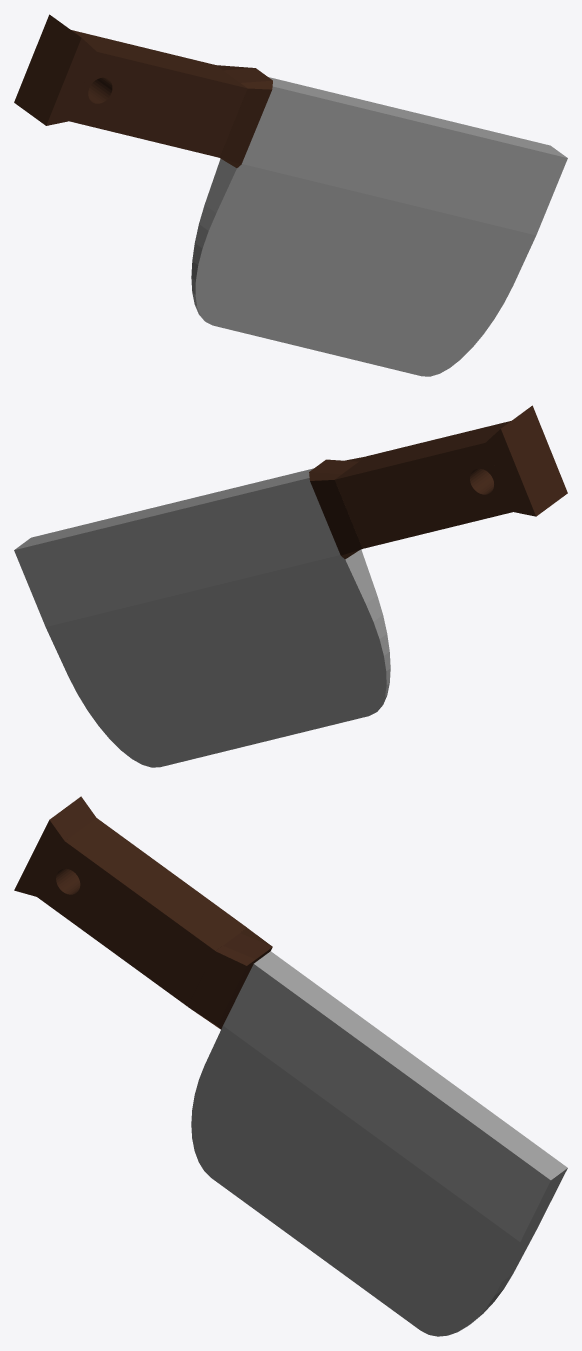
The model's file is Barriles.007.fbx.
3 renders of one model, top to bottom at view 1: azimuth 30°, elevation 25°; view 2: azimuth 150°, elevation 25°; view 3: azimuth 330°, elevation 25°, orthographic.
Visible parts, largest first — view 1: Barriles.007; view 2: Barriles.007; view 3: Barriles.007.
Boxes of the visible parts, left/top/right/bottom form: Barriles.007: left=14, top=14, right=567, bottom=376; Barriles.007: left=14, top=405, right=567, bottom=767; Barriles.007: left=14, top=796, right=567, bottom=1336.
Bounding box in the file's own units: 79.54 × 62.99 × 8.43.
